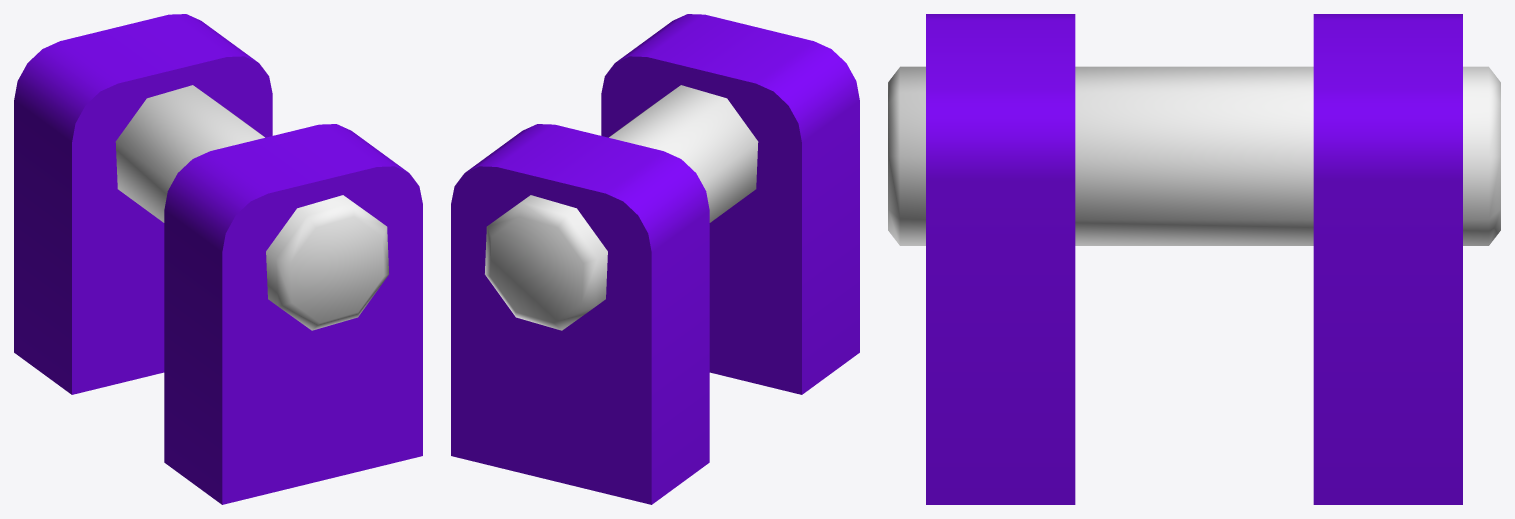
File: Ground_Hammer_Socket_04.fbx
3 renders of one model, left to right at view 1: azimuth 30°, elevation 25°; view 2: azimuth 150°, elevation 25°; view 3: azimuth 270°, elevation 25°, orthographic. The views are drawn at different scales.
Parts seen in each view (by area): view 1: Obstacle_Ground_Hammer_Socket_04; view 2: Obstacle_Ground_Hammer_Socket_04; view 3: Obstacle_Ground_Hammer_Socket_04.
Boxes of the visible parts, <box> form: Obstacle_Ground_Hammer_Socket_04: <box>14,14,422,504</box>; Obstacle_Ground_Hammer_Socket_04: <box>451,14,859,504</box>; Obstacle_Ground_Hammer_Socket_04: <box>888,14,1500,504</box>.
Size of the model in its own units: 50 by 71.48 by 102.
1 material, 1 textured.
